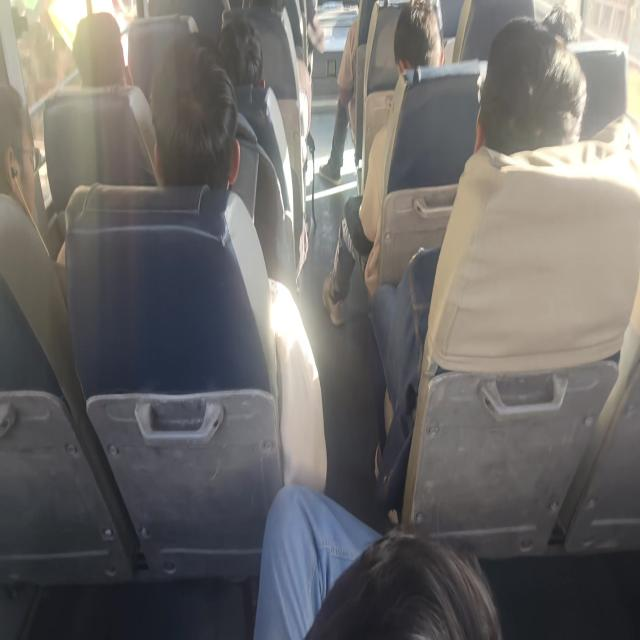person: (57, 32, 327, 492), (367, 7, 588, 517), (321, 0, 445, 327), (253, 482, 502, 639), (0, 83, 78, 413), (318, 0, 396, 185), (318, 13, 359, 185), (71, 11, 131, 88)
